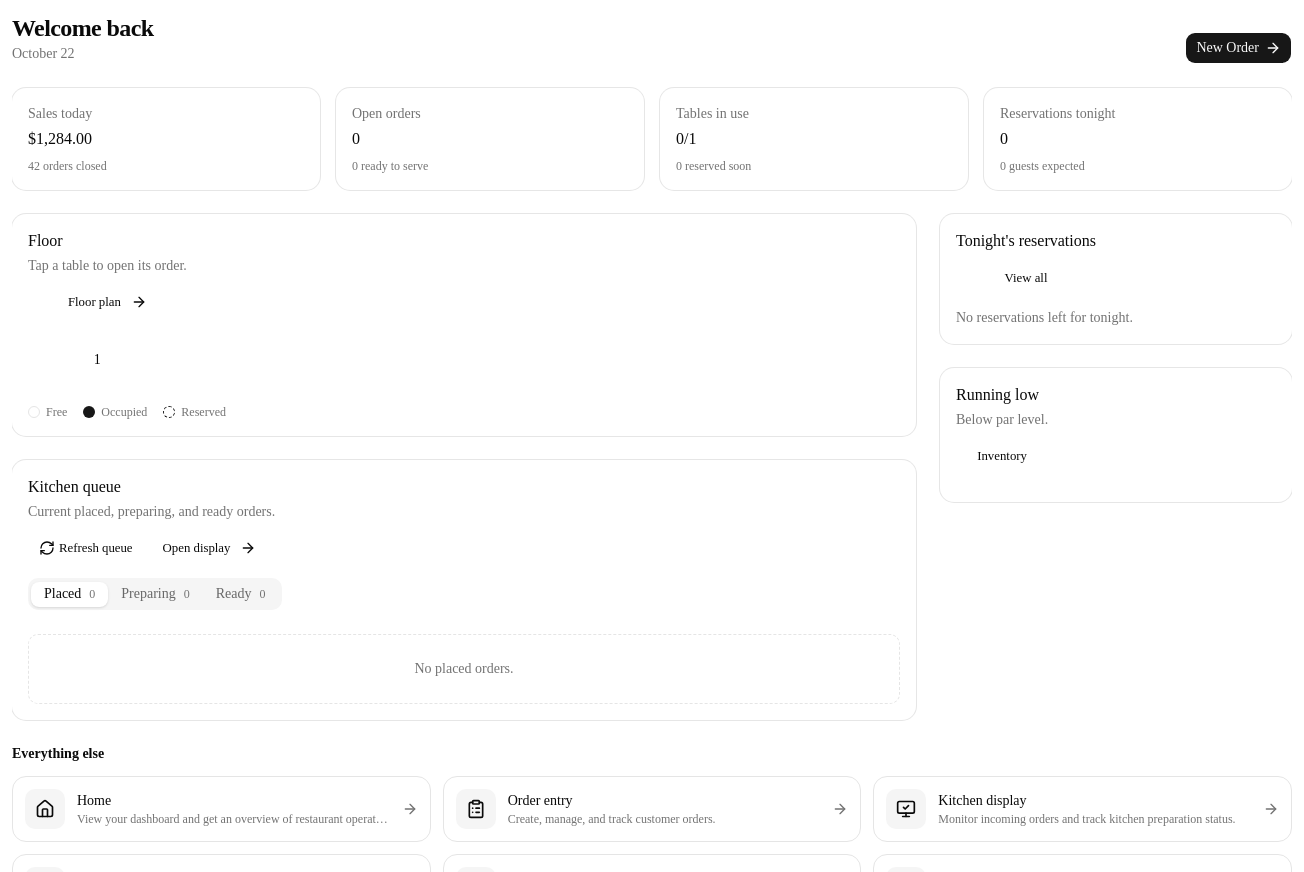
Scenario: shows true empty states when all saved orders are completed or cancelled
The width and height of the screenshot is (1304, 872).
Check: the text "No placed orders." is shown, box [28,634,900,704]
Check: the text "0" below "Open orders" is shown, box [352,130,360,147]
Click the tab "Preparing 0".
click(156, 594)  # box [108,582,203,606]
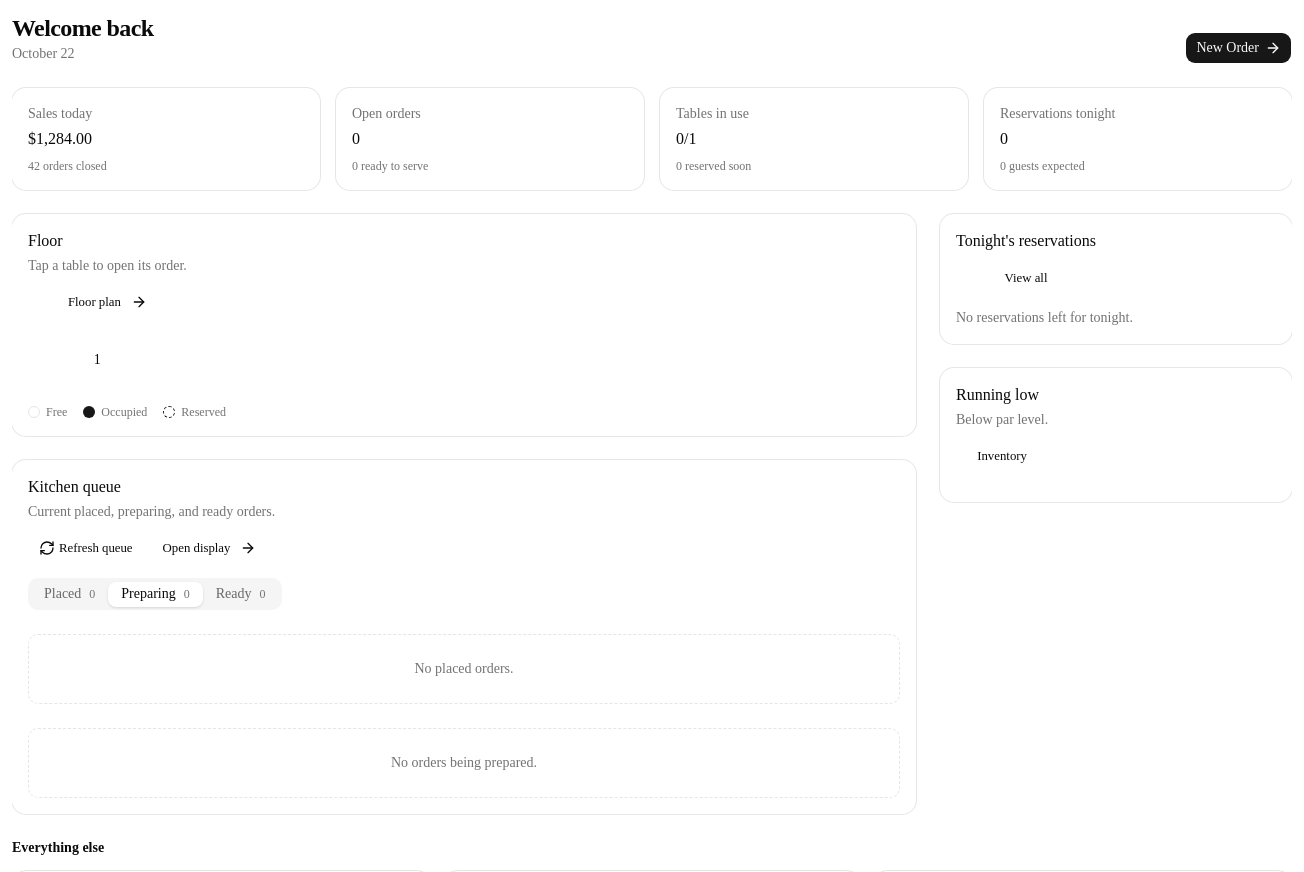
Check: the text "No orders being prepared." is shown, box [28,728,900,798]
Click the tab "Ready 0".
click(241, 594)  # box [203,582,279,606]
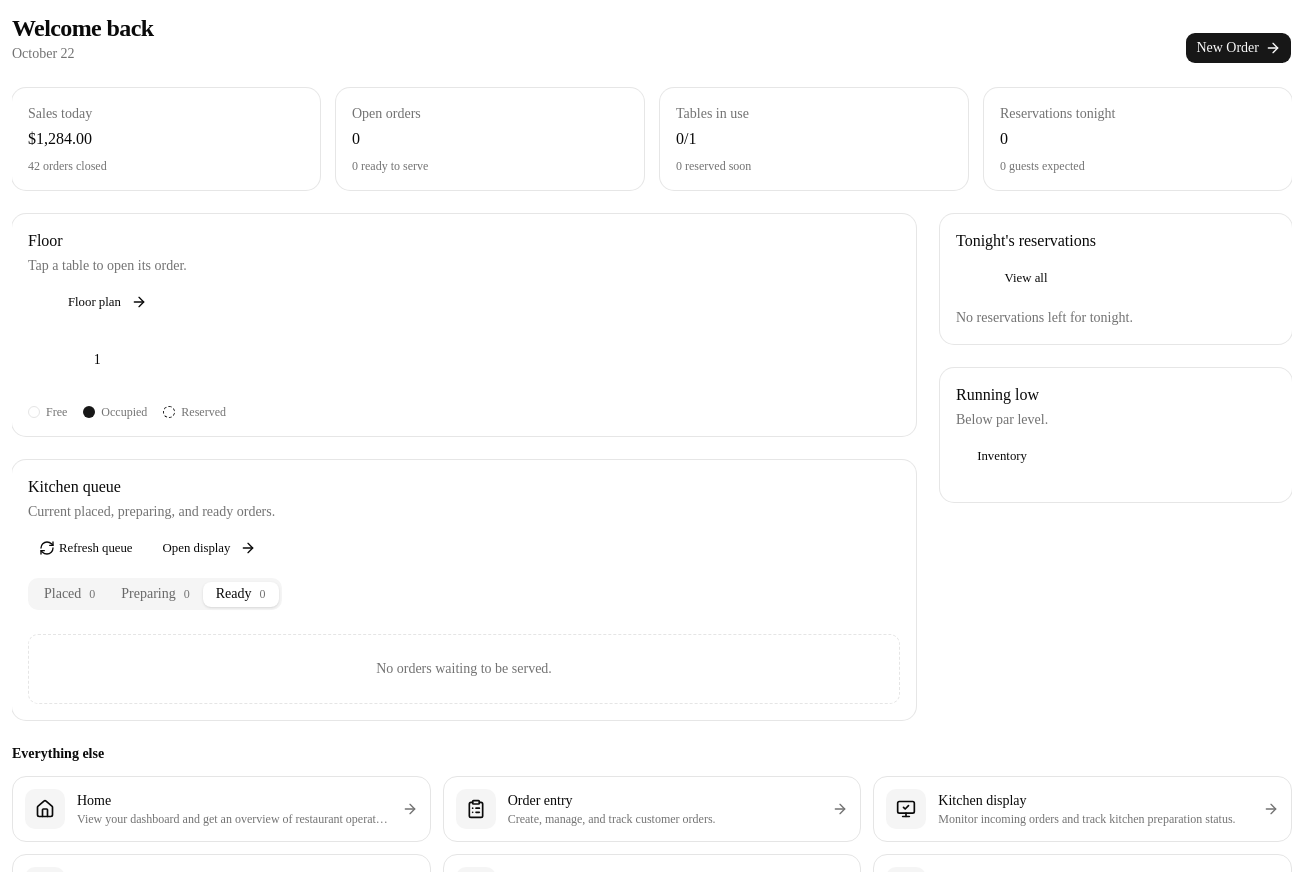
Check: the text "No orders waiting to be served." is shown, box [28,634,900,704]
